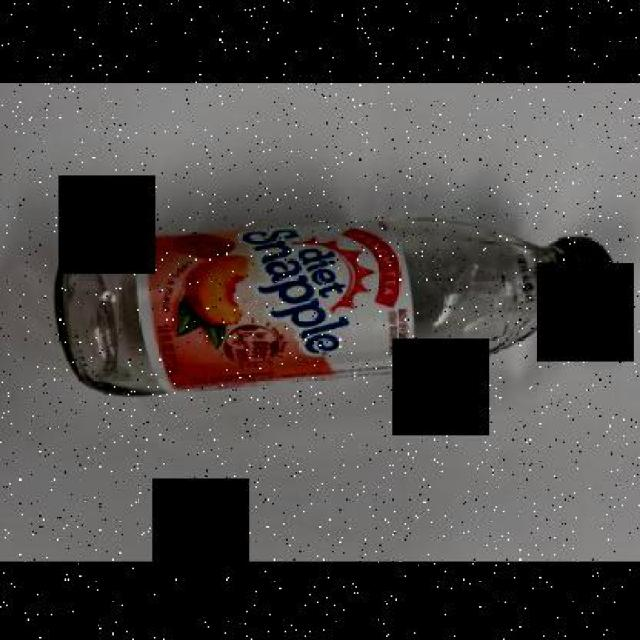glass: (53, 214, 605, 398)
